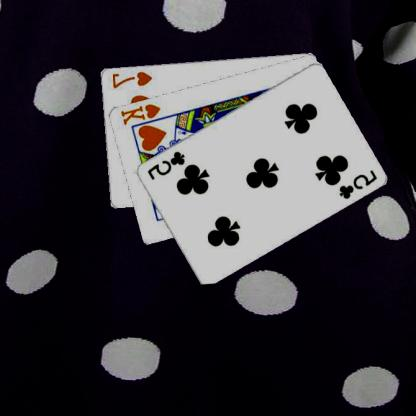5C: (338, 167, 379, 201), (146, 148, 187, 181)
7H: (111, 68, 155, 90)
KH: (120, 101, 164, 126)
